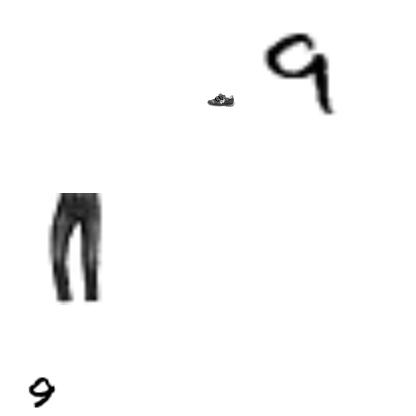9: (244, 10, 356, 122), (20, 370, 62, 412)
Sneaker: (207, 86, 235, 114)
Trouser: (17, 193, 129, 305)
